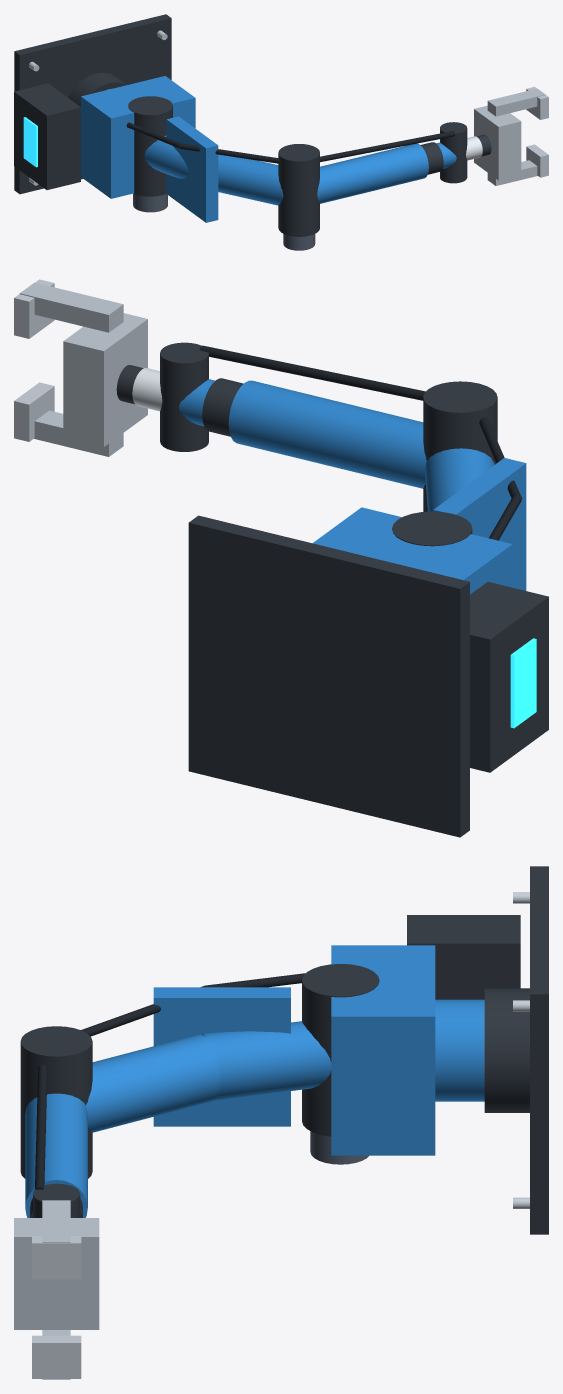
File: robot.glb
The picture shows the model from 3 angles, top to bottom: view 1: azimuth 30°, elevation 25°; view 2: azimuth 150°, elevation 25°; view 3: azimuth 270°, elevation 25°; orthographic projection. The views are drawn at different scales.
Parts seen in each view (by area): view 1: RS_base, RS_upper-arm-cover, RS_j1-turntable, RS_controller, RS_tool, RS_forearm-cover, RS_j3-elbow, RS_j2-shoulder, RS_j5-wrist-bend, RS_upper-service-cable, RS_forearm-service-cable, RS_j2-motor (+3 smaller); view 2: RS_base, RS_tool, RS_controller, RS_forearm-cover, RS_upper-arm-cover, RS_j1-turntable, RS_j3-elbow, RS_j5-wrist-bend, RS_forearm-service-cable, RS_j2-shoulder, RS_j4-wrist-roll, RS_upper-service-cable (+2 smaller); view 3: RS_j1-turntable, RS_upper-arm-cover, RS_base, RS_tool, RS_controller, RS_j3-elbow, RS_forearm-cover, RS_j2-shoulder, RS_upper-service-cable, RS_forearm-service-cable, RS_j5-wrist-bend, RS_j2-motor.
Part boxes in pixels (box(x1,y1,x2,y2)): RS_base: box(14, 14, 171, 194); RS_upper-arm-cover: box(144, 116, 283, 222); RS_j1-turntable: box(81, 76, 195, 198); RS_controller: box(14, 83, 80, 189); RS_tool: box(474, 86, 548, 185); RS_forearm-cover: box(317, 143, 428, 203); RS_j3-elbow: box(278, 144, 319, 236); RS_j2-shoulder: box(128, 96, 172, 196); RS_j5-wrist-bend: box(440, 122, 467, 183); RS_upper-service-cable: box(126, 122, 279, 163); RS_forearm-service-cable: box(320, 131, 454, 161); RS_j2-motor: box(133, 193, 167, 212); RS_base: box(188, 515, 469, 837); RS_tool: box(14, 279, 147, 456); RS_controller: box(470, 582, 548, 772); RS_forearm-cover: box(228, 380, 426, 488); RS_upper-arm-cover: box(425, 448, 526, 590); RS_j1-turntable: box(313, 507, 512, 594); RS_j3-elbow: box(423, 381, 497, 511); RS_j5-wrist-bend: box(160, 342, 208, 451); RS_forearm-service-cable: box(199, 345, 425, 400); RS_j2-shoulder: box(392, 511, 472, 546); RS_j4-wrist-roll: box(202, 378, 243, 436); RS_upper-service-cable: box(479, 417, 521, 540); RS_j1-turntable: box(331, 945, 484, 1155); RS_upper-arm-cover: box(85, 987, 331, 1132); RS_base: box(484, 866, 548, 1234); RS_tool: box(14, 1200, 99, 1379); RS_controller: box(407, 915, 520, 999); RS_j3-elbow: box(20, 1026, 92, 1178); RS_forearm-cover: box(25, 1093, 87, 1217); RS_j2-shoulder: box(302, 964, 379, 1136); RS_upper-service-cable: box(81, 973, 305, 1036); RS_forearm-service-cable: box(35, 1064, 47, 1189); RS_j5-wrist-bend: box(33, 1183, 80, 1217); RS_j2-motor: box(310, 1131, 368, 1164).
Bounding box in the file's own units: 8.33 × 2.8 × 5.65.
